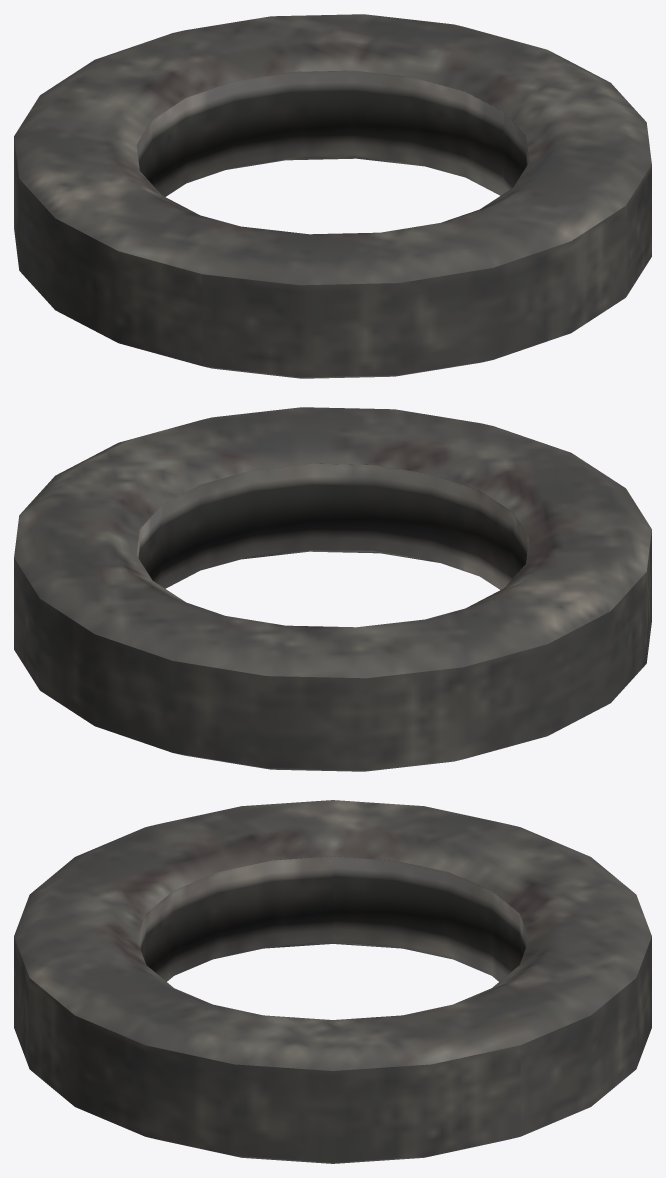
Rendered from objects_un_dlc1_t10tire01.gltf.
3 renders of one model, top to bottom at view 1: azimuth 30°, elevation 25°; view 2: azimuth 150°, elevation 25°; view 3: azimuth 270°, elevation 25°, orthographic.
Parts seen in each view (by area): view 1: um_objects_un_dlc1_t10tire01_model_lod0Shape:objects_un_dlc1, um_objects_un_dlc1_t10tire01_model_lod1Shape:objects_un_dlc1; view 2: um_objects_un_dlc1_t10tire01_model_lod0Shape:objects_un_dlc1, um_objects_un_dlc1_t10tire01_model_lod1Shape:objects_un_dlc1; view 3: um_objects_un_dlc1_t10tire01_model_lod0Shape:objects_un_dlc1, um_objects_un_dlc1_t10tire01_model_lod1Shape:objects_un_dlc1.
Part boxes in pixels (left/top/right/bottom): um_objects_un_dlc1_t10tire01_model_lod0Shape:objects_un_dlc1: left=14, top=14, right=651, bottom=378; um_objects_un_dlc1_t10tire01_model_lod1Shape:objects_un_dlc1: left=136, top=70, right=529, bottom=212; um_objects_un_dlc1_t10tire01_model_lod0Shape:objects_un_dlc1: left=14, top=407, right=651, bottom=771; um_objects_un_dlc1_t10tire01_model_lod1Shape:objects_un_dlc1: left=136, top=463, right=529, bottom=605; um_objects_un_dlc1_t10tire01_model_lod0Shape:objects_un_dlc1: left=14, top=800, right=651, bottom=1163; um_objects_un_dlc1_t10tire01_model_lod1Shape:objects_un_dlc1: left=136, top=856, right=529, bottom=986.
Size of what is drawn, in the model's own units: 1.06 by 0.21 by 1.06.
Materials: 1 (1 with a texture image).
